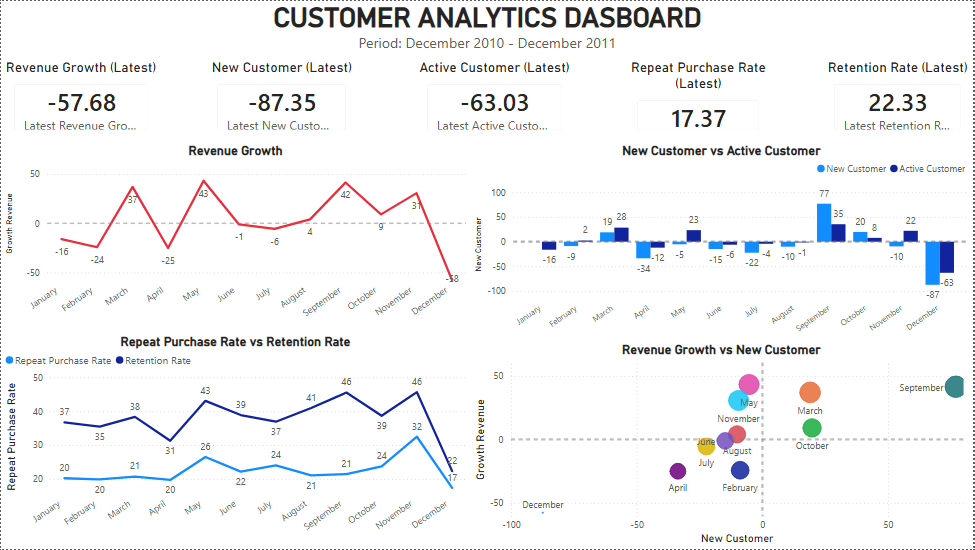

Layout of this report page (visuals, bound fields, positions):
{"tool":"powerbi","page":{"name":"Customer Analytics","canvas":[1280,720],"ordinal":2},"visuals":[{"type":"textbox","title":"CUSTOMER ANALYTICS DASBOARD","box":[0,0,1280,68.6],"z":0},{"type":"cardVisual","title":"Revenue Growth (Latest)","fields":{"Data":["retail_sales vw_customer_summary.Latest Revenue Growth %"]},"box":[0,75.7,210,111.4],"z":1000},{"type":"cardVisual","title":"New Customer (Latest)","fields":{"Data":["retail_sales vw_customer_summary.Latest New Customer Growth"]},"box":[267.1,75.7,204.3,111.4],"z":2000},{"type":"cardVisual","title":"Active Customer (Latest)","fields":{"Data":["retail_sales vw_customer_summary.Latest Active Customer Growth"]},"box":[542.9,75.7,211.4,111.4],"z":3000},{"type":"cardVisual","title":"Repeat Purchase Rate (Latest)","fields":{"Data":["retail_sales vw_customer_summary.Latest Repeat Purchase Rate"]},"box":[820,75.7,195.7,111.4],"z":4000},{"type":"cardVisual","title":"Retention Rate (Latest)","fields":{"Data":["retail_sales vw_customer_summary.Latest Retention Rate"]},"box":[1078.6,75.7,201.4,111.4],"z":5000},{"type":"lineChart","title":"Revenue Growth","fields":{"Category":["retail_sales vw_customer_summary.Month.Variation.Date Hierarchy.Month"],"Y":["Sum(retail_sales vw_customer_summary.Growth Revenue)"]},"box":[0,187.1,617.1,251.4],"z":6000},{"type":"clusteredColumnChart","title":"New Customer vs Active Customer","fields":{"Category":["retail_sales vw_customer_summary.Month.Variation.Date Hierarchy.Month"],"Y":["Sum(retail_sales vw_customer_summary.New Customer)","Sum(retail_sales vw_customer_summary.Active Customer)"]},"box":[617.1,187.1,661.4,261.4],"z":7000},{"type":"lineChart","title":"Repeat Purchase Rate vs Retention Rate","fields":{"Category":["retail_sales vw_customer_summary.Month.Variation.Date Hierarchy.Month"],"Y":["Sum(retail_sales vw_customer_summary.Repeat Purchase Rate)","Sum(retail_sales vw_customer_summary.Retention Rate)"]},"box":[0,438.6,617.1,281.4],"z":8000},{"type":"scatterChart","title":"Revenue Growth vs New Customer","fields":{"X":["Sum(retail_sales vw_customer_summary.New Customer)"],"Y":["Sum(retail_sales vw_customer_summary.Growth Revenue)"],"Size":["Sum(retail_sales vw_customer_summary.Active Customer)"],"Series":["retail_sales vw_customer_summary.Month.Variation.Date Hierarchy.Month"]},"box":[617.1,448.6,661.4,271.4],"z":9000}]}

Visuals, with their boxes in screenshot pixels (x1, y1, x2, y2), scaled from the page's 1280x720 canvas onto the 975x550 screenshot:
"CUSTOMER ANALYTICS DASBOARD" textbox: bbox=(0, 0, 974, 52)
"Revenue Growth (Latest)" cardVisual: bbox=(0, 58, 160, 143)
"New Customer (Latest)" cardVisual: bbox=(203, 58, 359, 143)
"Active Customer (Latest)" cardVisual: bbox=(414, 58, 575, 143)
"Repeat Purchase Rate (Latest)" cardVisual: bbox=(625, 58, 774, 143)
"Retention Rate (Latest)" cardVisual: bbox=(822, 58, 974, 143)
"Revenue Growth" lineChart: bbox=(0, 143, 470, 335)
"New Customer vs Active Customer" clusteredColumnChart: bbox=(470, 143, 974, 343)
"Repeat Purchase Rate vs Retention Rate" lineChart: bbox=(0, 335, 470, 549)
"Revenue Growth vs New Customer" scatterChart: bbox=(470, 343, 974, 549)
